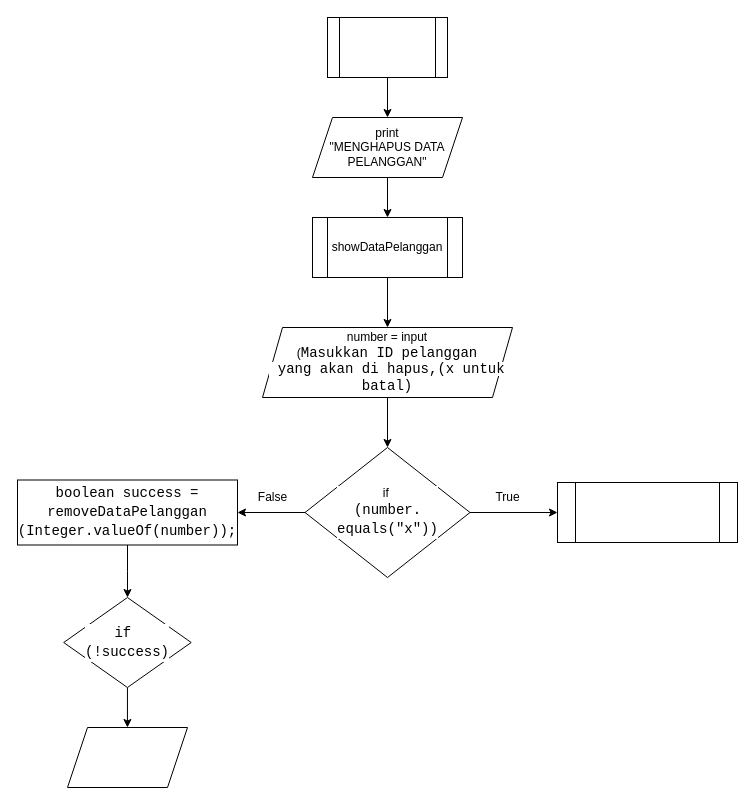
Some shapes in this 755 by 805 pixel diagram are drawn without their labels. The shapes that lost their labels are listed below. From the top down, each one's centre as x and y in pixels, then its label:
[387,47]: viewremove Datapelanggan
[647,512]: viewshowDataPelanggan
[127,757]: print "gagal menghapus"
